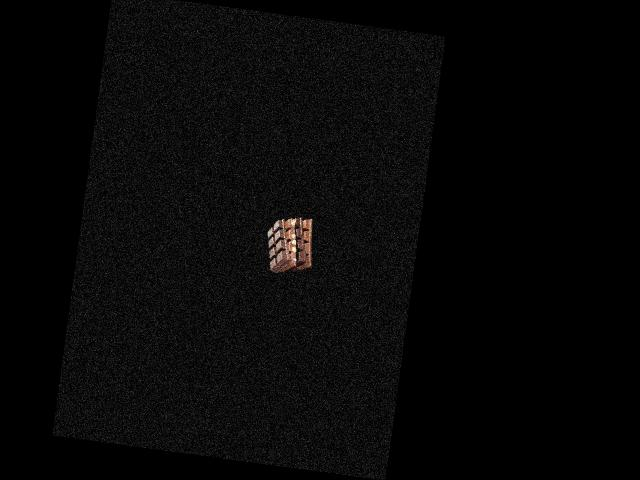chocolate: (263, 213, 319, 273)
